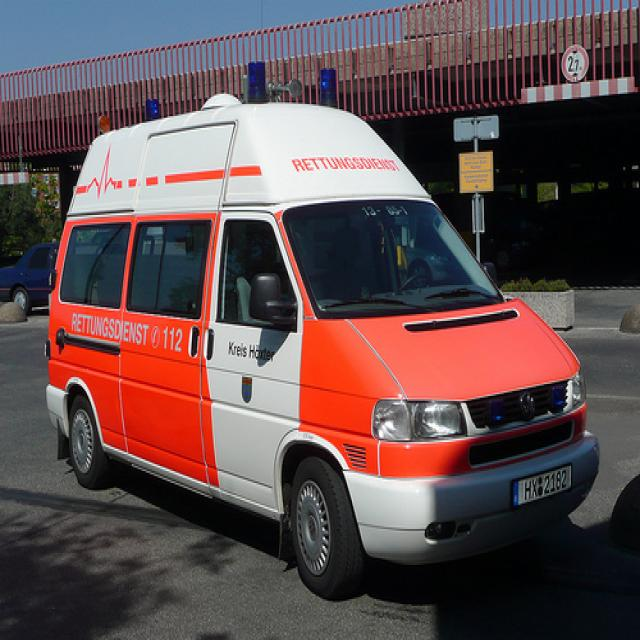emergency-vehicle: (40, 106, 598, 599)
